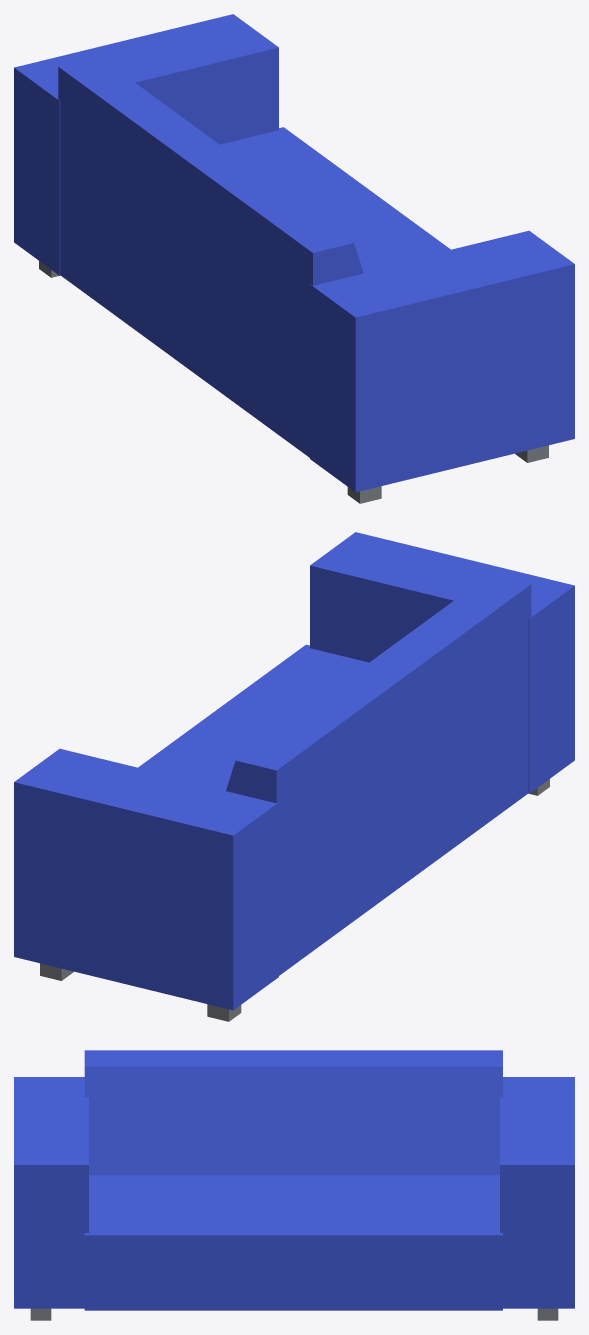
File: loungeDesignSofa.fbx
3 views of the same model, one above another, from view 1: azimuth 30°, elevation 25°; view 2: azimuth 150°, elevation 25°; view 3: azimuth 270°, elevation 25° (orthographic). The views are drawn at different scales.
Parts seen in each view (by area): view 1: Cube.002, Cube, Cube.003; view 2: Cube.002, Cube.003, Cube; view 3: Cube.002, Cube.003, Cube.
Part boxes in pixels (bbox=[...]): Cube.002: bbox=[58, 56, 450, 457]; Cube: bbox=[310, 230, 574, 492]; Cube.003: bbox=[14, 14, 278, 275]; Cube.002: bbox=[138, 574, 531, 975]; Cube.003: bbox=[14, 748, 278, 1010]; Cube: bbox=[310, 532, 574, 793]; Cube.002: bbox=[84, 1050, 502, 1310]; Cube.003: bbox=[500, 1077, 574, 1320]; Cube: bbox=[14, 1077, 88, 1320].
Size of the model in its own units: 2100 by 2046 by 5501.
